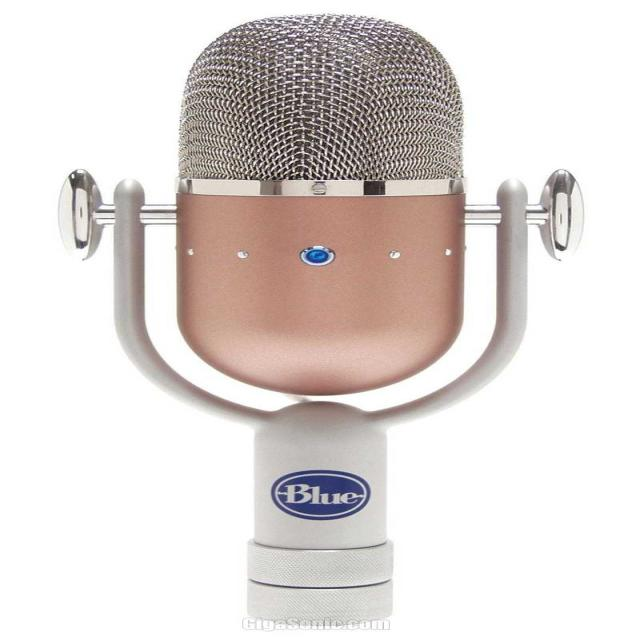microphone: (166, 16, 476, 396)
